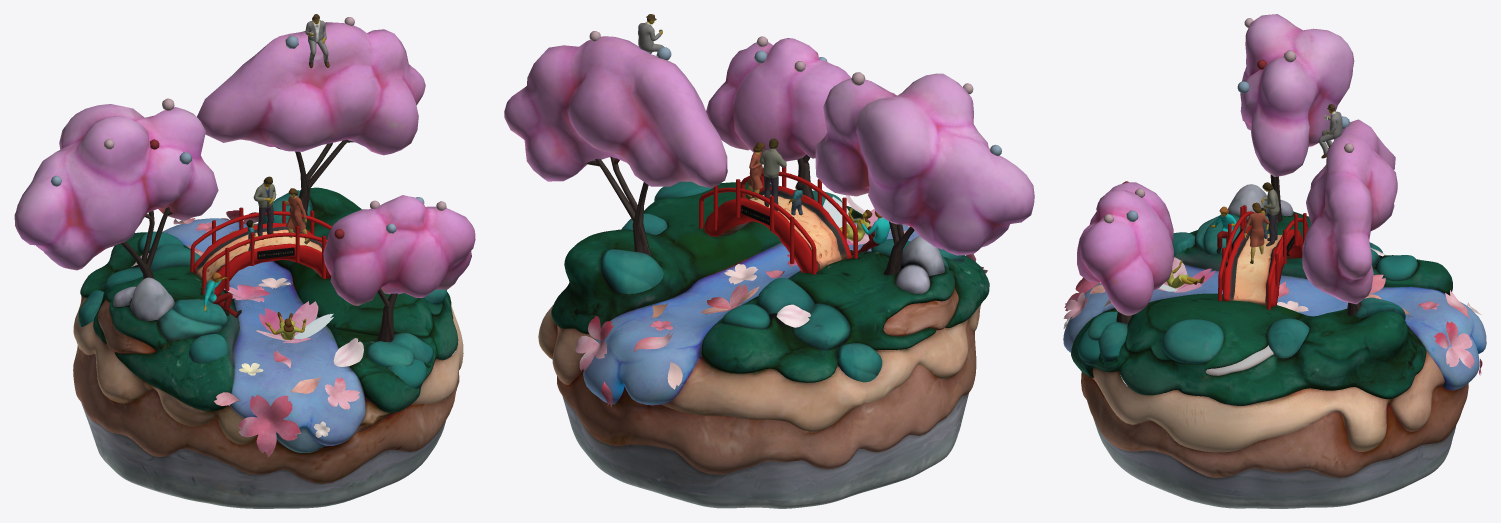
Rendered from rivermove.gltf.
3 views of the same model, side by side, from view 1: azimuth 30°, elevation 25°; view 2: azimuth 150°, elevation 25°; view 3: azimuth 270°, elevation 25° (orthographic). The views are drawn at different scales.
Parts seen in each view (by area): view 1: ground, sakuraA (×2), sakuraB, sakuraC (×2), river, bridge_base, Group2 (×2), rock1, polySurface106, polySurface101, polySurface124, polySurface122 (+11 smaller); view 2: ground, sakuraB, sakuraA, river, sakuraC, bridge_base, polySurface112, polySurface114, polySurface123, polySurface113, Group2 (×2), rock1 (+8 smaller); view 3: ground, sakuraB, sakuraA, sakuraC, river, bridge_base, polySurface115, polySurface110, Group2 (×2), sakuraAA, polySurface104, polySurface125 (+6 smaller).
Part boxes in pixels (x1,y1,x2,y2): ground: (73,187,463,508); sakuraA (×2): (197,22,425,409); sakuraB: (14,104,218,270); sakuraC (×2): (238,195,475,456); river: (162,218,365,445); bridge_base: (193,223,331,295); Group2 (×2): (204,14,329,317); rock1: (130,277,174,321); polySurface106: (158,308,222,340); polySurface101: (172,299,228,326); polySurface124: (367,341,413,367); polySurface122: (189,334,228,363); ground: (538,182,989,508); sakuraB: (815,73,1034,255); sakuraA: (504,36,727,188); river: (583,217,918,405); sakuraC: (706,38,851,161); bridge_base: (704,186,851,273); polySurface112: (600,249,663,293); polySurface114: (793,303,850,349); polySurface123: (836,343,882,382); polySurface113: (757,278,815,314); Group2 (×2): (638,14,890,255); rock1: (901,236,944,275); ground: (1071,211,1468,508); sakuraB: (1240,14,1354,176); sakuraA: (1302,119,1397,304); sakuraC: (1077,182,1173,315); river: (1063,265,1486,390); bridge_base: (1222,225,1302,306); polySurface115: (1162,319,1223,363); polySurface110: (1267,318,1309,358); Group2 (×2): (1210,104,1342,266); sakuraAA: (1446,321,1474,368); polySurface104: (1375,255,1418,280); polySurface125: (1098,322,1127,362).
Size of the model in its own units: 14.36 by 11.98 by 12.08.
Materials: 1 (1 with a texture image).
